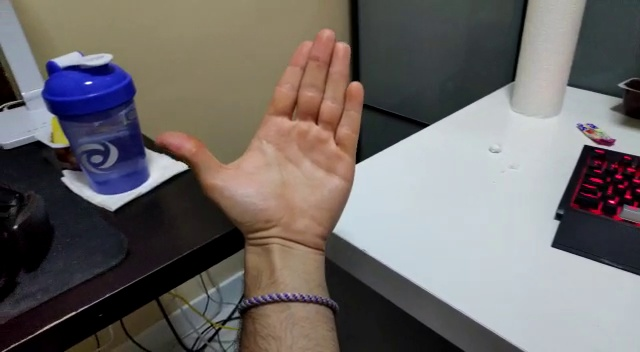Palm: (153, 26, 365, 250)
